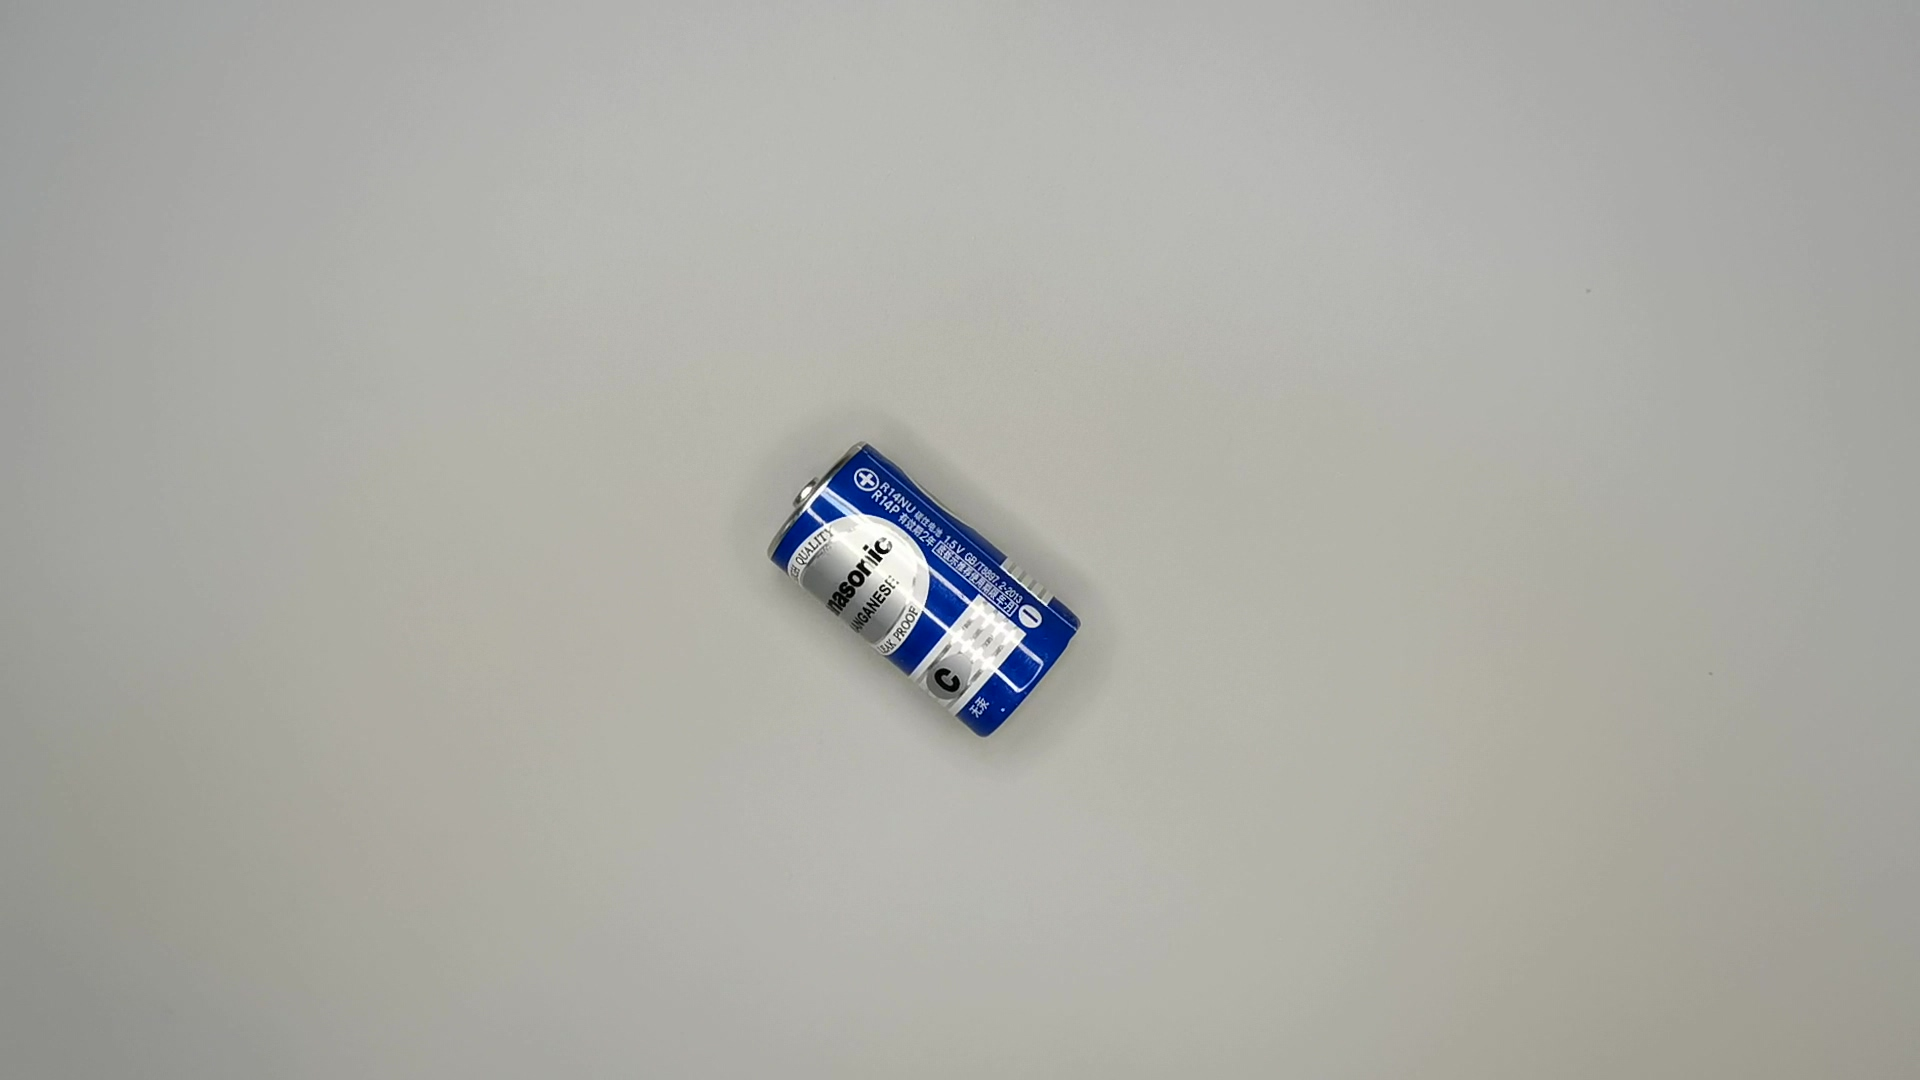battery: (764, 438, 1083, 741)
